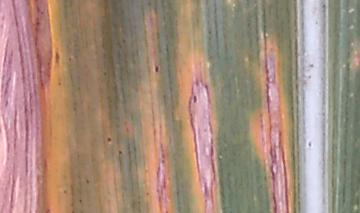tarspot: (153, 64, 160, 74), (192, 94, 198, 105), (106, 136, 113, 143), (117, 149, 122, 156)
